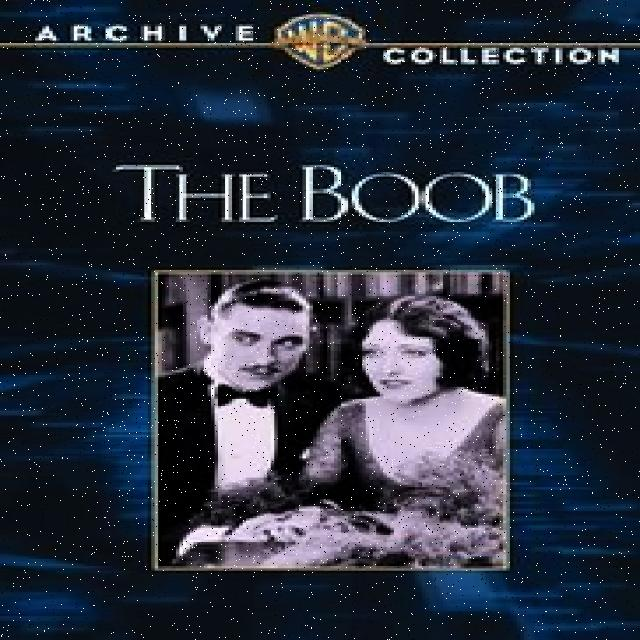movie-judul: (85, 145, 592, 249)
picture: (4, 88, 638, 632)
